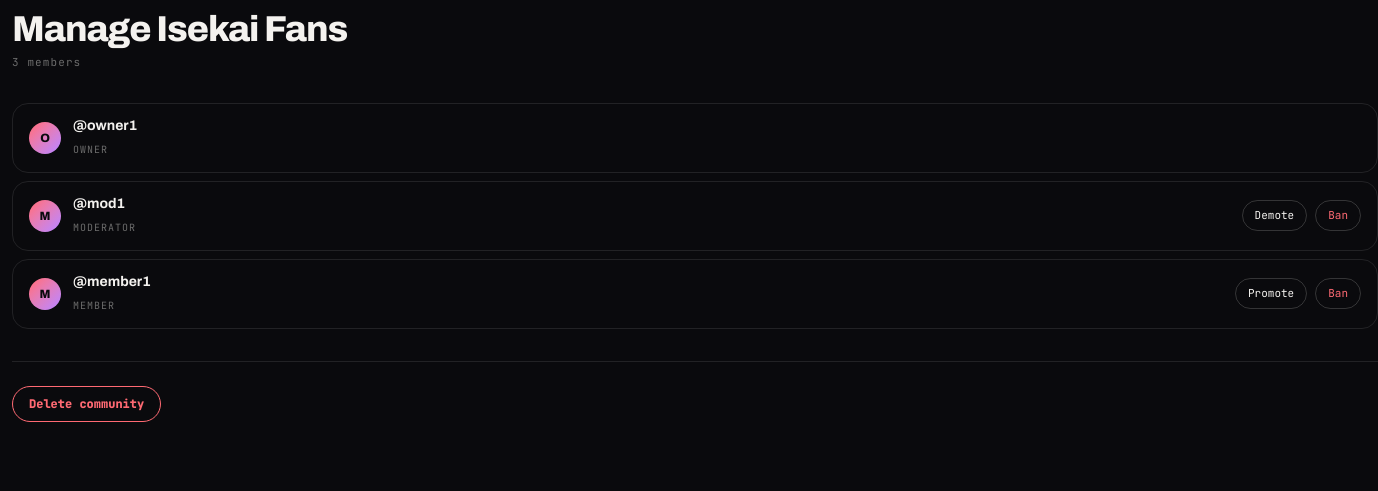
Test: CommunityManagePanel › maps rpc errors to an inline error line
This screenshot has width=1378, height=491.
Click the button "Demote": (1274,216) [1242,200,1307,231]
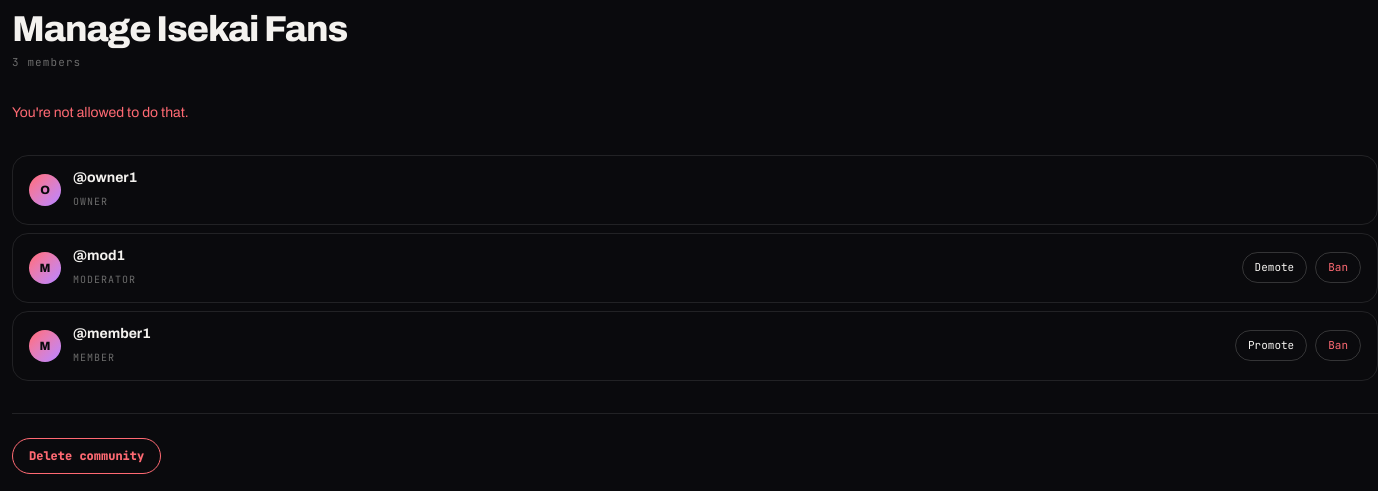
Expected: the text "You're not allowed to do that." is shown, [12,105,189,120]
